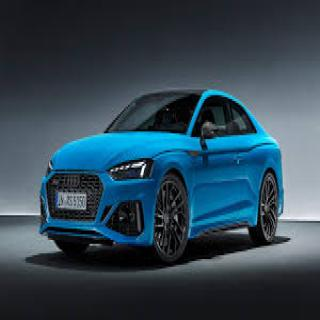Normal_vehicle: (37, 89, 286, 268)
